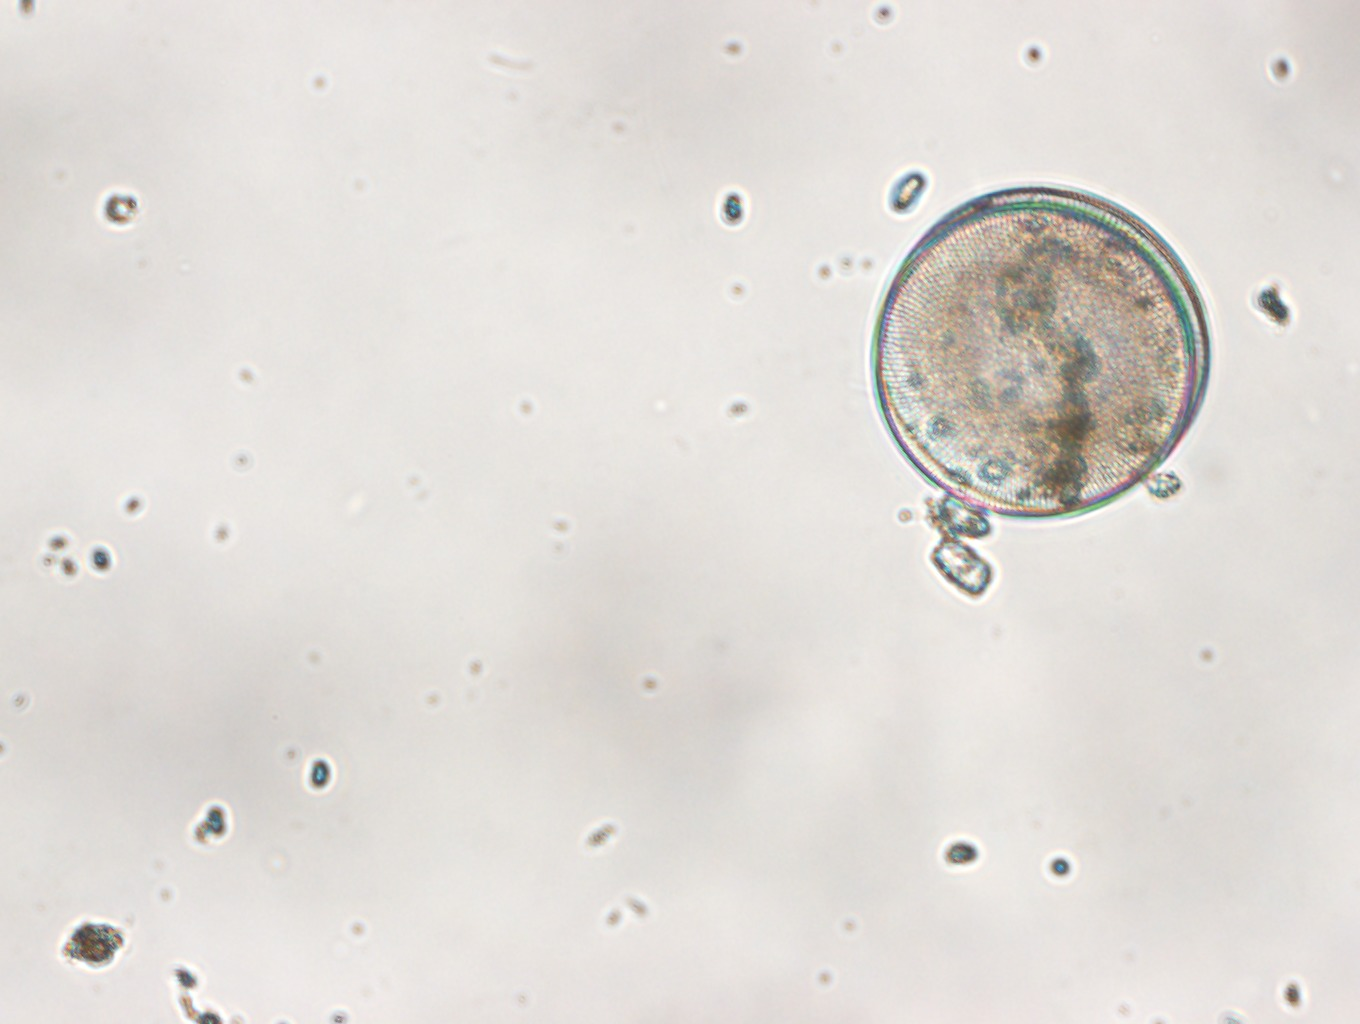coscinodiscus: (867, 184, 1212, 520)
